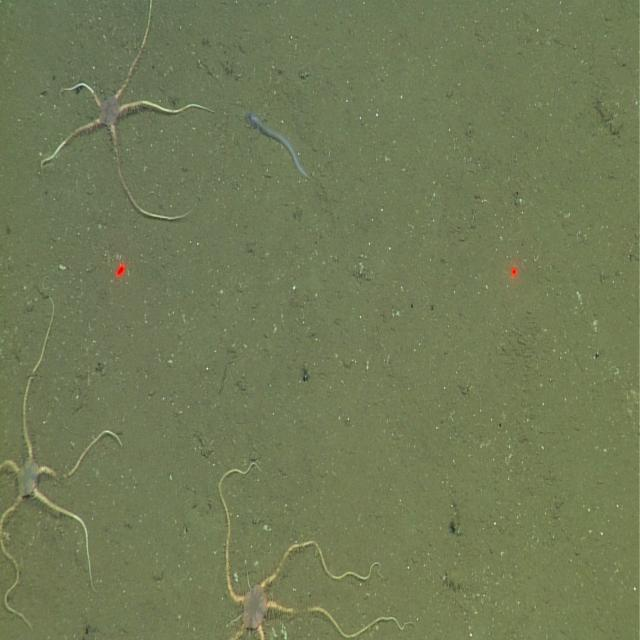Brittle Star: (0, 279, 130, 629), (35, 0, 217, 226), (212, 455, 416, 637)
Not Brittle Star: (243, 104, 320, 194)
